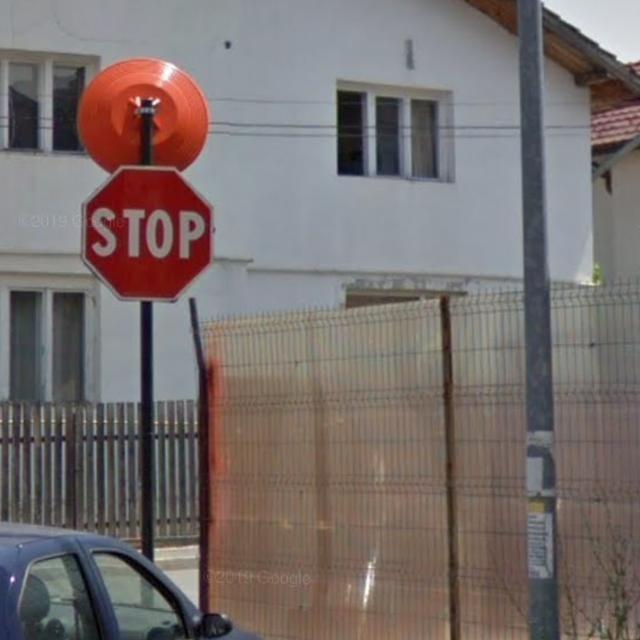prio_stop: (80, 167, 214, 301)
